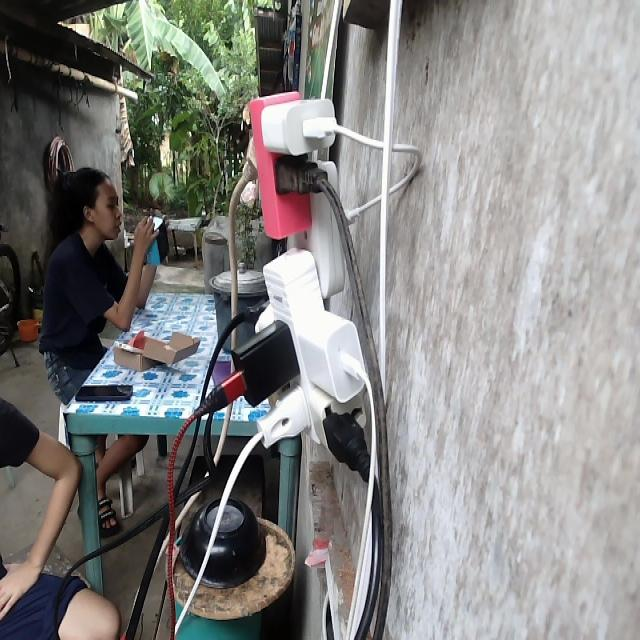-: (215, 90, 370, 466)
